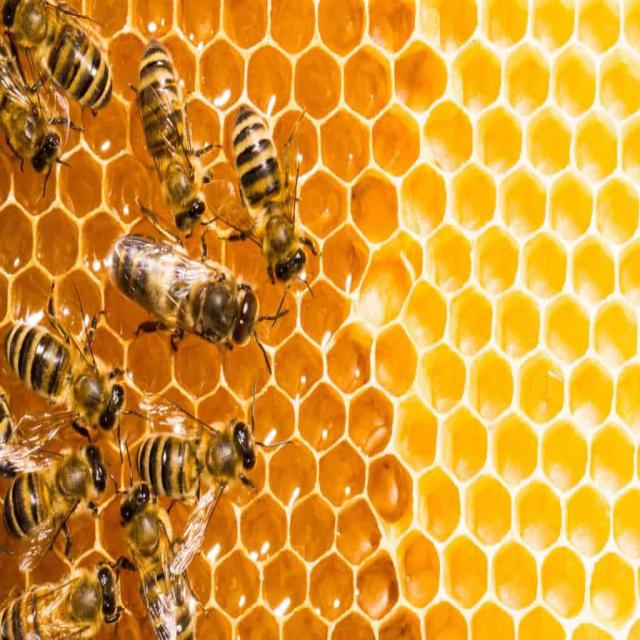honeybee: (107, 228, 283, 360), (129, 40, 222, 247), (0, 317, 141, 444), (221, 116, 313, 295), (119, 482, 204, 635), (1, 0, 110, 116), (4, 436, 105, 558), (116, 424, 268, 502), (4, 567, 124, 640), (0, 47, 63, 172)
